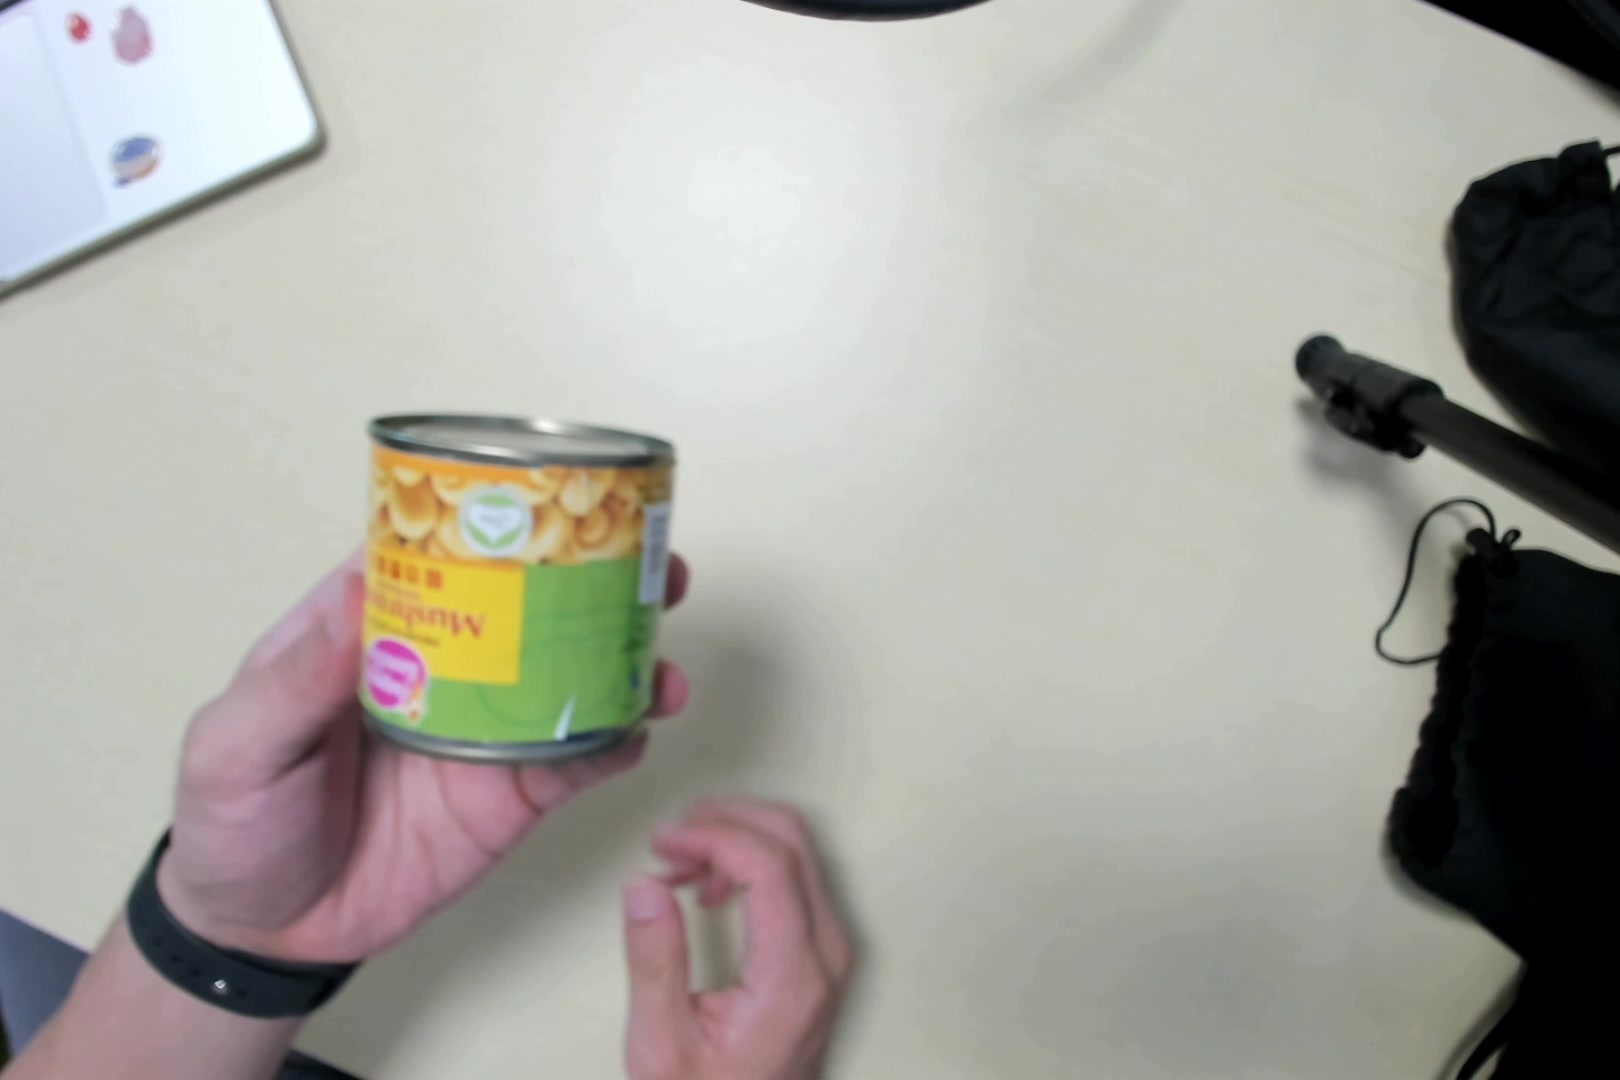CannedMashrooms_100-199g_Halal_NonHealthy: (359, 421, 667, 749)
